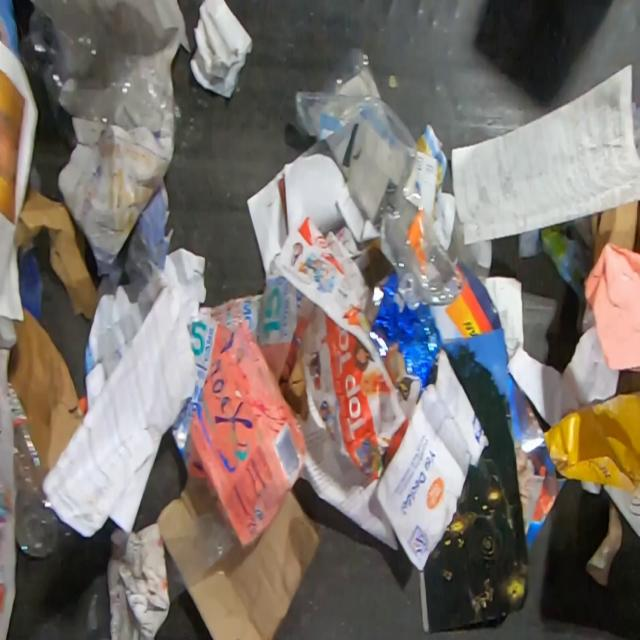cardboard: (430, 255, 569, 550), (168, 310, 308, 548), (154, 473, 322, 640), (7, 306, 84, 470), (13, 188, 97, 321), (589, 199, 640, 268)
metal: (368, 269, 445, 394)
rigid_plastic: (292, 45, 463, 305), (2, 380, 60, 560)
soft_plastic: (18, 0, 184, 137), (163, 512, 234, 603), (30, 572, 111, 640)
